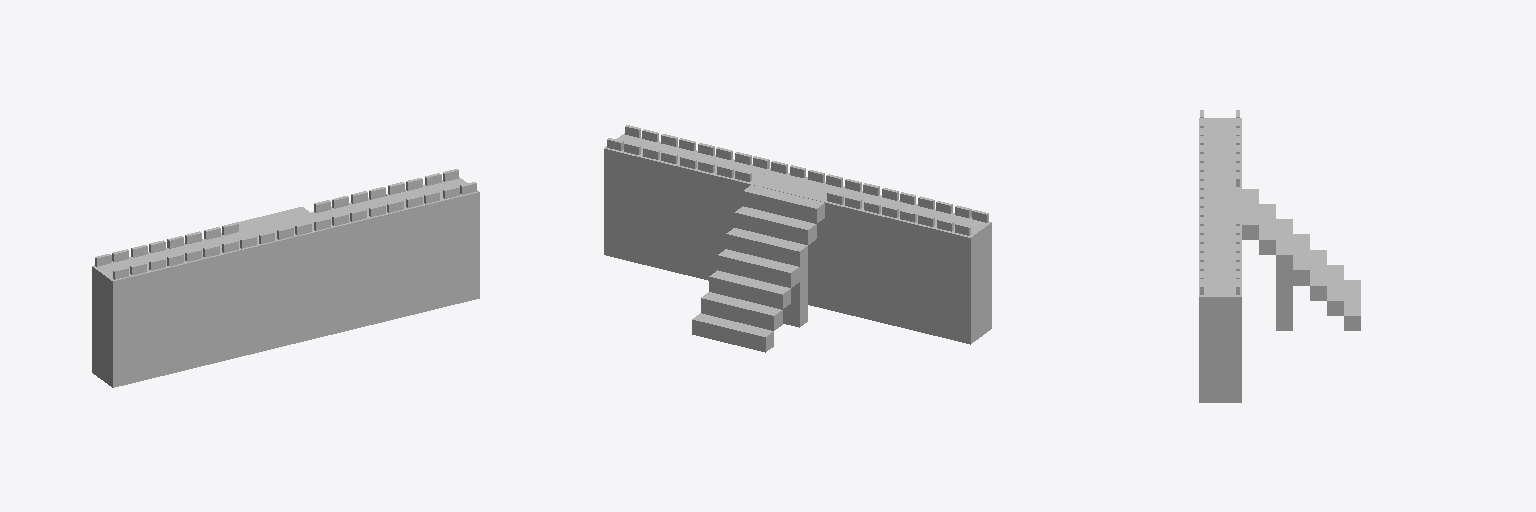
The model's file is full_wall.obj.
3 views of the same model, side by side, from view 1: azimuth 30°, elevation 25°; view 2: azimuth 150°, elevation 25°; view 3: azimuth 270°, elevation 25° (orthographic).
Visible parts, largest first — view 1: Standard.007, Standard.002, Standard, Standard.003, Standard.004, Standard.006, Standard.001, Standard.005, Middle.001, Middle, Stairs; view 2: Stairs, Standard.007, Standard.003, Standard.005, Standard.002, Standard, Standard.006, Standard.004, Standard.001, Middle, Middle.001; view 3: Stairs, Standard.004, Standard, Middle, Standard.001, Standard.002, Standard.003, Standard.005, Standard.007, Middle.001, Standard.006.
Part boxes in pixels (x1,y1,x2,y2): Standard.007: (92,249,149,387); Standard.002: (349,187,405,324); Standard: (202,222,258,360); Standard.003: (386,178,442,315); Standard.004: (423,169,479,306); Standard.006: (129,240,185,378); Standard.001: (311,196,368,333); Standard.005: (166,231,221,369); Middle.001: (275,213,332,342); Middle: (239,221,295,351); Stairs: (221,207,309,233); Stairs: (692,185,824,352); Standard.007: (934,205,991,344); Standard.003: (640,134,697,272); Standard.005: (861,188,917,326); Standard.002: (677,143,734,280); Standard: (825,179,880,317); Standard.006: (898,196,954,335); Standard.004: (604,125,660,263); Standard.001: (714,152,770,272); Middle: (788,170,844,308); Middle.001: (751,161,807,193); Stairs: (1242,189,1360,330); Standard.004: (1199,271,1241,402); Standard: (1199,163,1241,188); Middle: (1199,181,1241,206); Standard.001: (1199,217,1241,242); Standard.002: (1199,235,1241,260); Standard.003: (1199,253,1241,278); Standard.005: (1199,145,1241,170); Standard.007: (1199,110,1241,135); Middle.001: (1199,199,1241,224); Standard.006: (1199,128,1241,152).
Size of the model in its own units: 498 by 150 by 190.